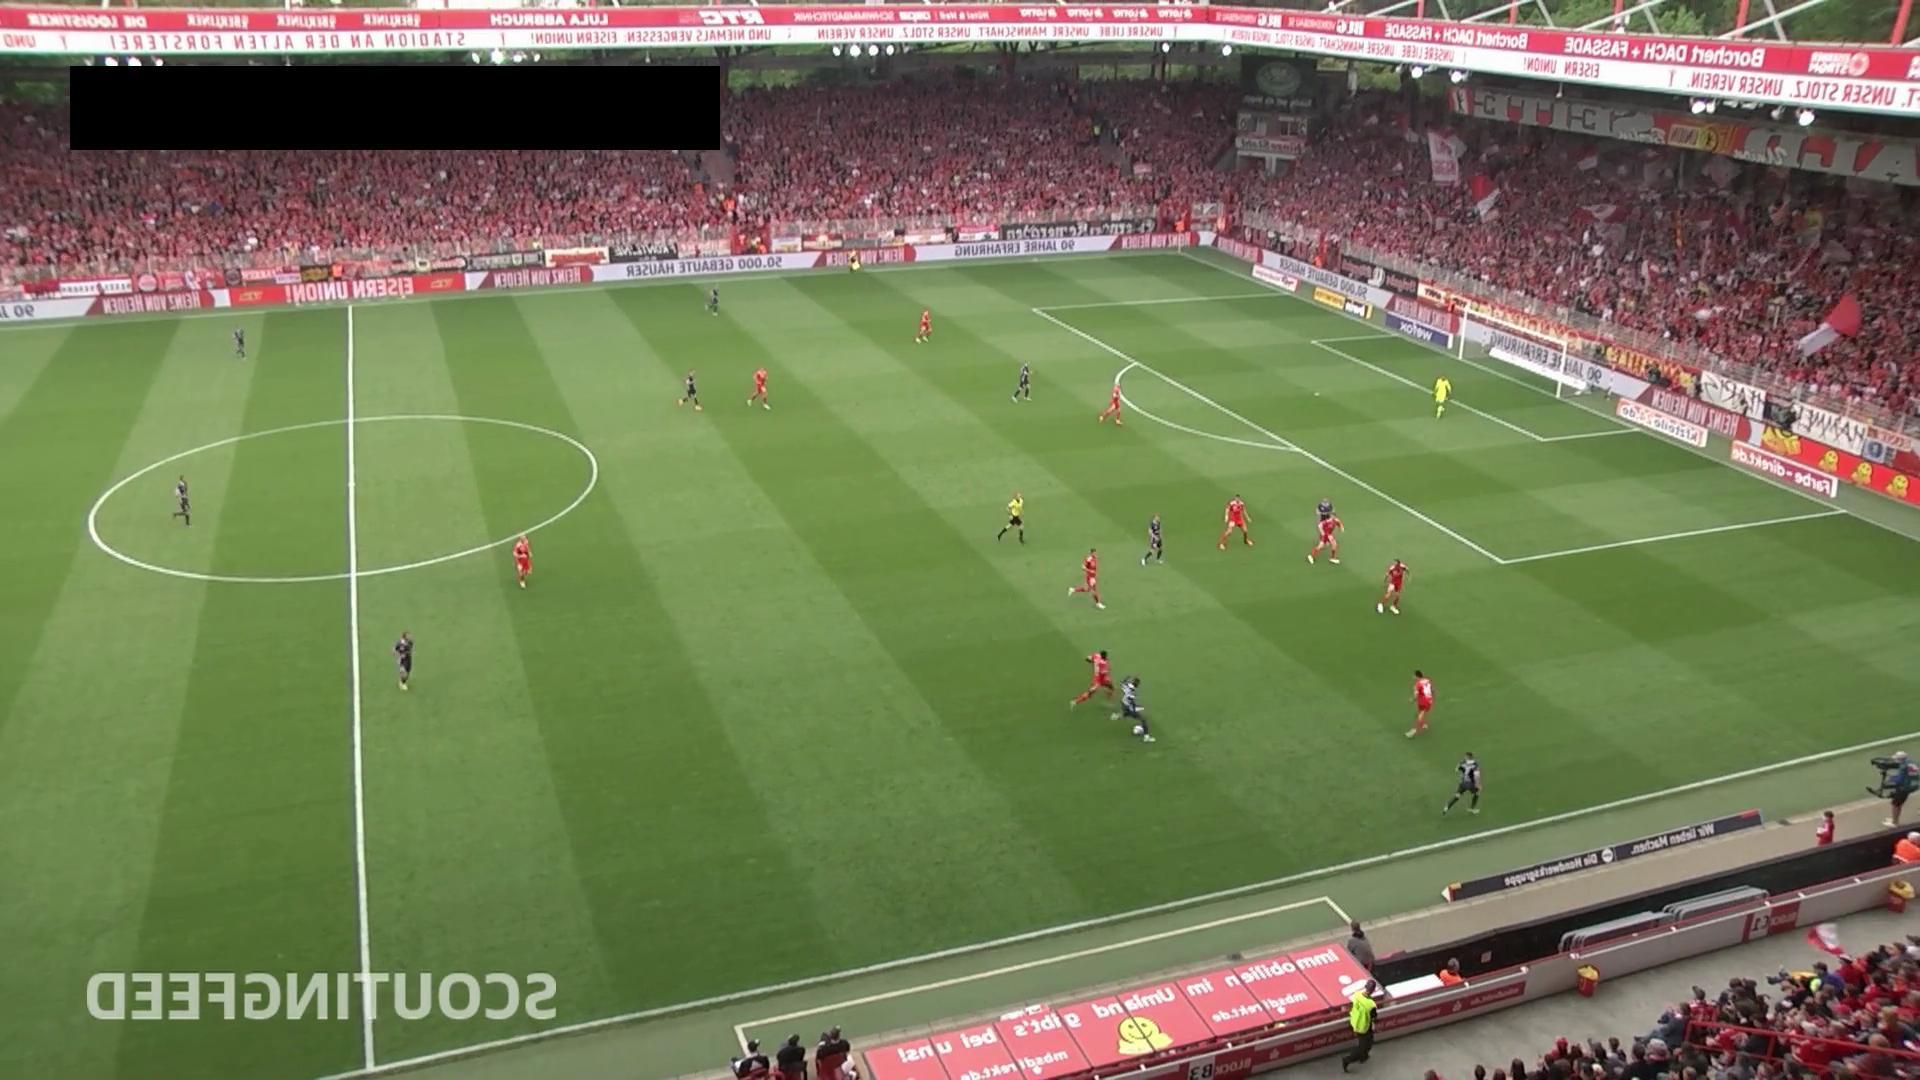ball: (1131, 722, 1144, 737)
goalkeeper: (1432, 373, 1453, 420)
player: (1111, 674, 1156, 742), (1442, 750, 1483, 818), (1070, 650, 1116, 710), (1068, 548, 1105, 609), (1218, 493, 1255, 550), (1405, 668, 1435, 738), (1307, 511, 1345, 565), (1376, 558, 1410, 614), (392, 630, 415, 692), (1140, 513, 1164, 566), (512, 532, 534, 588), (1098, 382, 1124, 426), (677, 369, 704, 411), (746, 366, 771, 410), (172, 475, 192, 526), (1317, 496, 1337, 546), (1012, 362, 1032, 403), (914, 309, 932, 344), (232, 327, 246, 358), (706, 286, 720, 315)
referee: (996, 491, 1026, 545), (848, 246, 861, 275)
